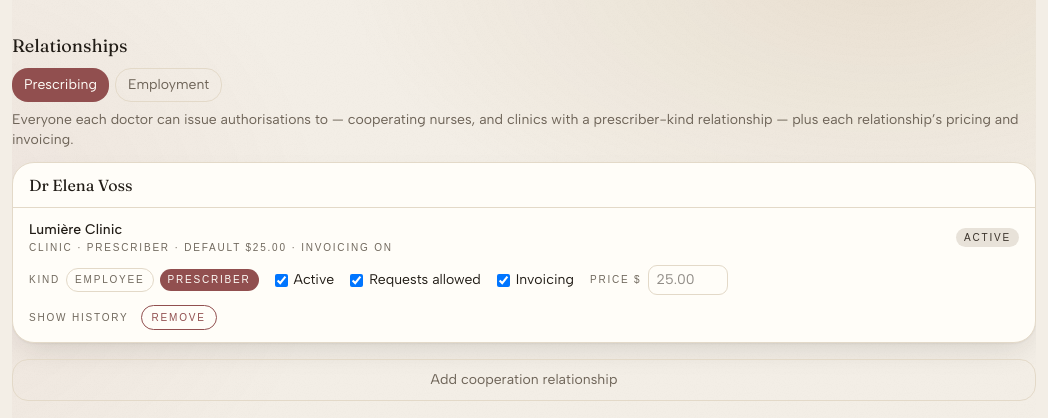
Employment view › excludes prescriber-only doctors from a clinic's staff
Click the button "Employment". click: (169, 85)
box: [115,68,222,102]
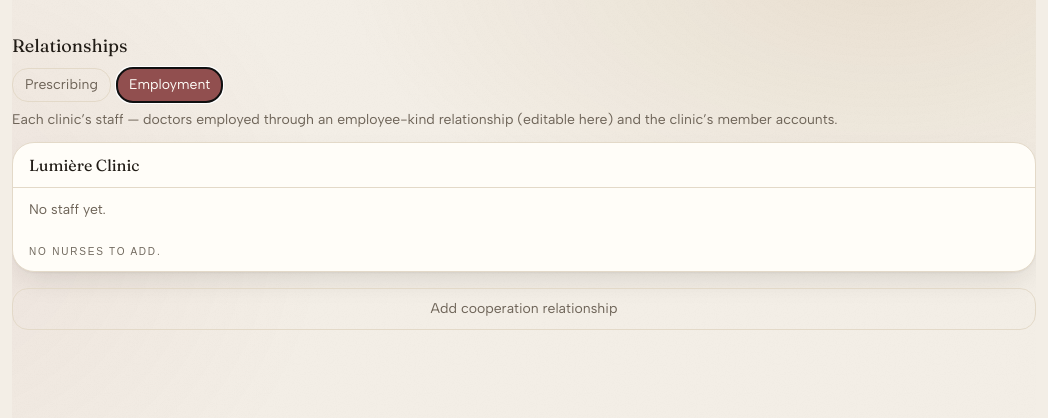
Expected: the heading "Dr Elena Voss" is gone
Expected: the text "No staff yet." is shown, [29,201,106,218]
